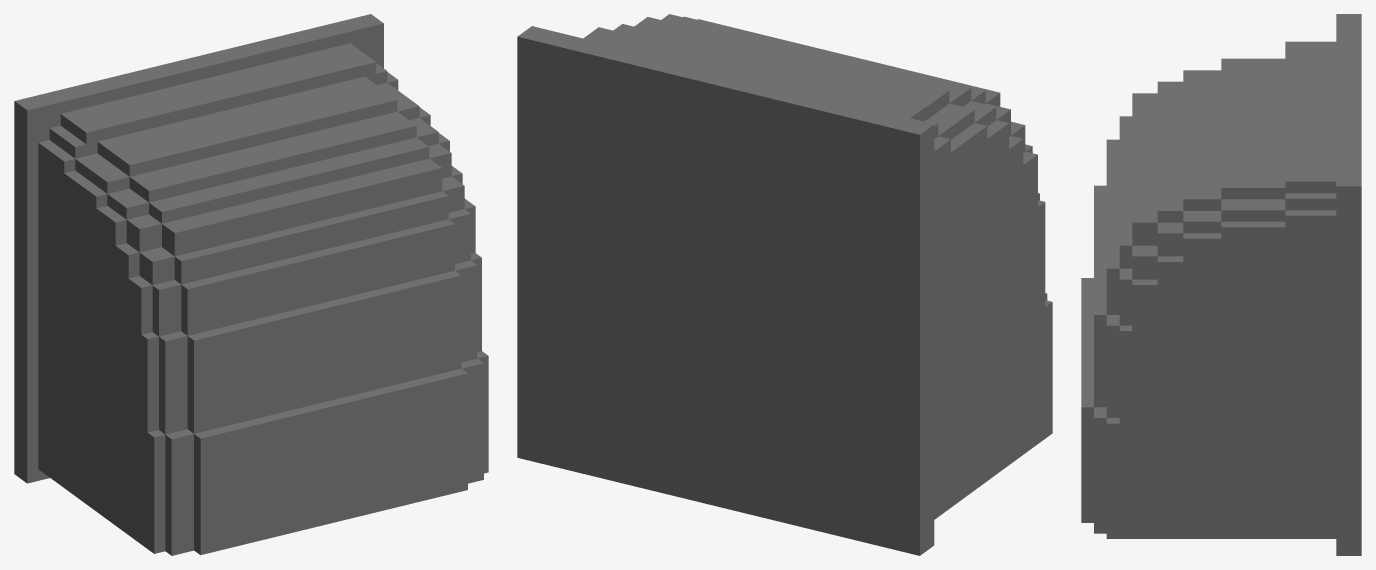
The model's file is ventilation.obj.
The picture shows the model from 3 angles, left to right: view 1: azimuth 30°, elevation 25°; view 2: azimuth 150°, elevation 25°; view 3: azimuth 270°, elevation 25°; orthographic projection. The views are drawn at different scales.
Size of the model in its own units: 3.2 by 3.2 by 2.2.
Materials: 1 (1 with a texture image).
